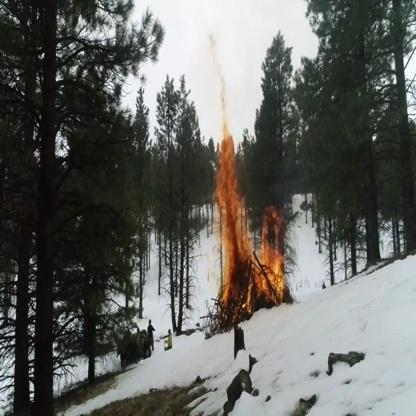Fire: (204, 63, 288, 329)
